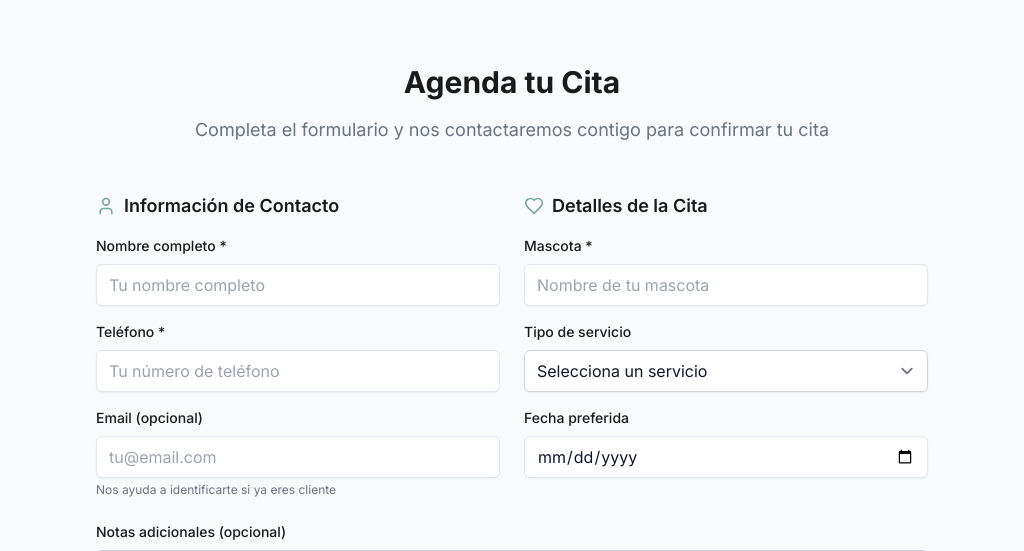
Test: QuickBooking › Customer Lookup › should show "Nueva mascota" option when pets exist
Type "5512345678" into the field labelled "Teléfono *".
click(298, 371); type("5512345678")  # box [96, 350, 500, 392]
Wait 500 ms
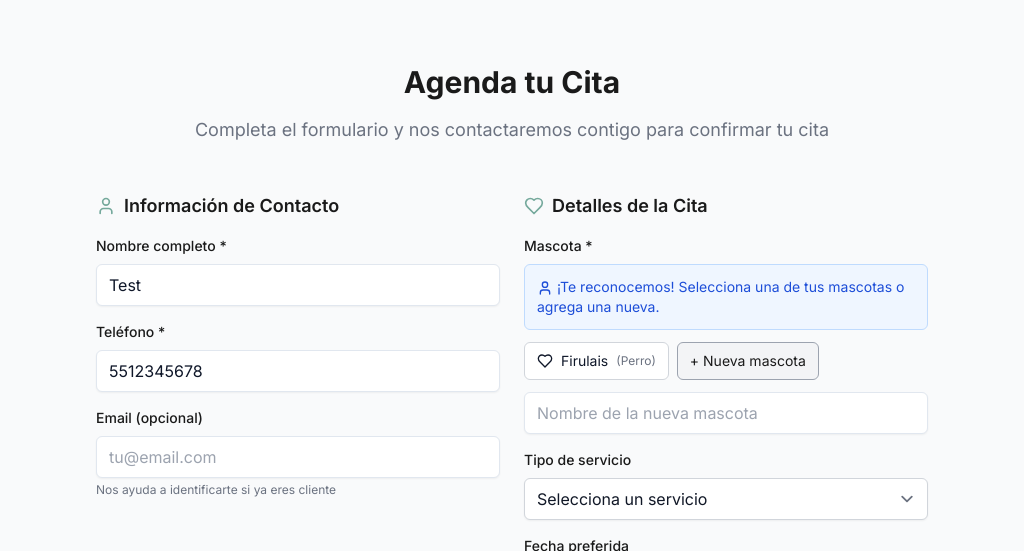
expect the button "+ Nueva mascota" is shown: met, box [677, 342, 819, 380]
